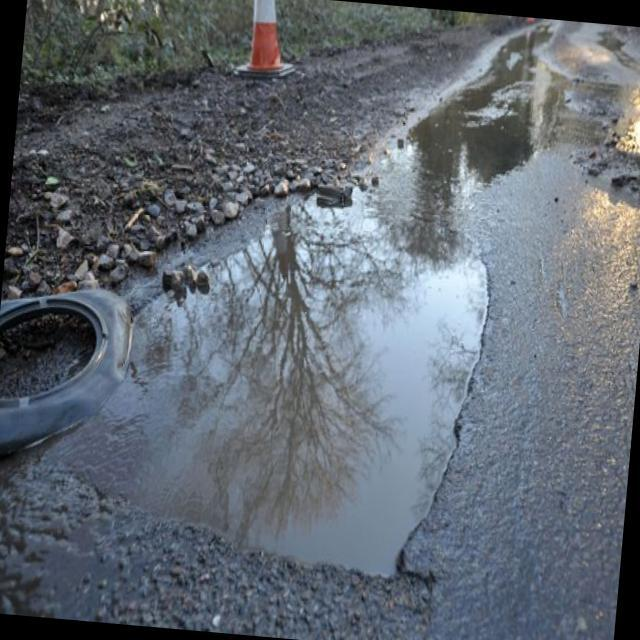Pothole: (132, 233, 512, 578), (396, 58, 563, 195)
